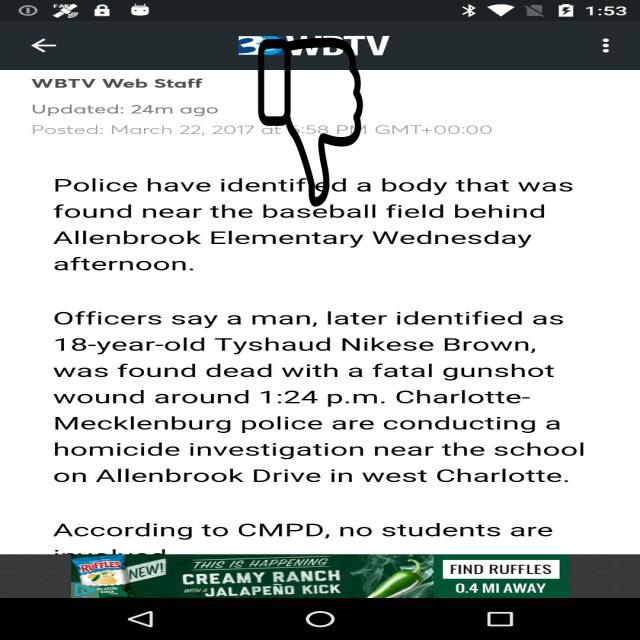obstruction: (256, 38, 364, 206)
